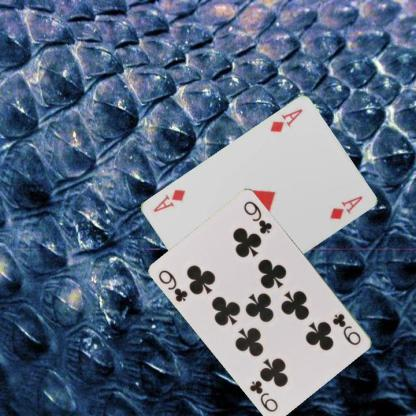9c: (156, 267, 190, 303), (330, 311, 363, 347)
Ad: (267, 106, 304, 134)
